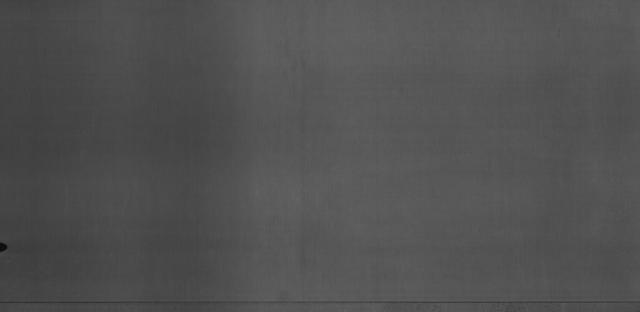punching_hole: (0, 242, 8, 254)
welding_line: (0, 292, 639, 307)
